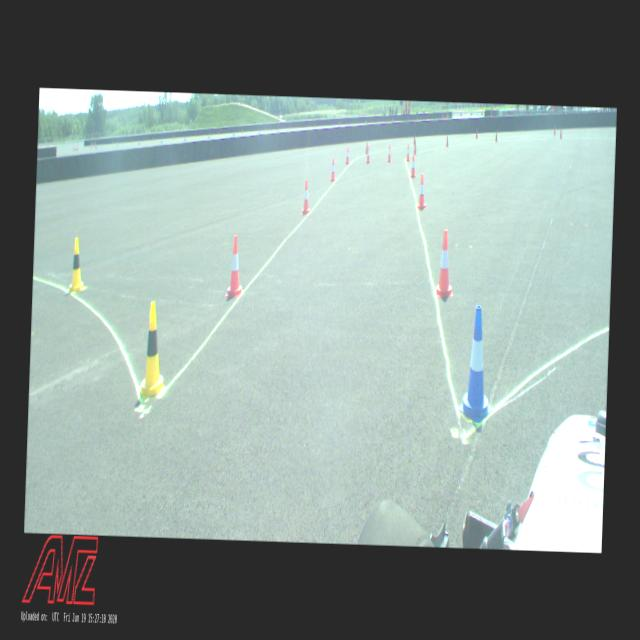blue_cone: (457, 304, 495, 423)
orange_cone: (435, 230, 454, 298), (226, 235, 244, 298), (417, 174, 426, 209), (302, 179, 310, 214), (330, 158, 336, 182), (410, 153, 416, 177), (345, 146, 350, 164), (387, 144, 392, 162), (366, 145, 370, 163), (406, 143, 410, 161)
unknown_cone: (365, 141, 367, 154), (414, 141, 416, 154), (446, 134, 448, 146), (494, 131, 496, 142), (560, 128, 562, 138)
yellow_cone: (139, 302, 167, 398), (69, 238, 85, 292)
